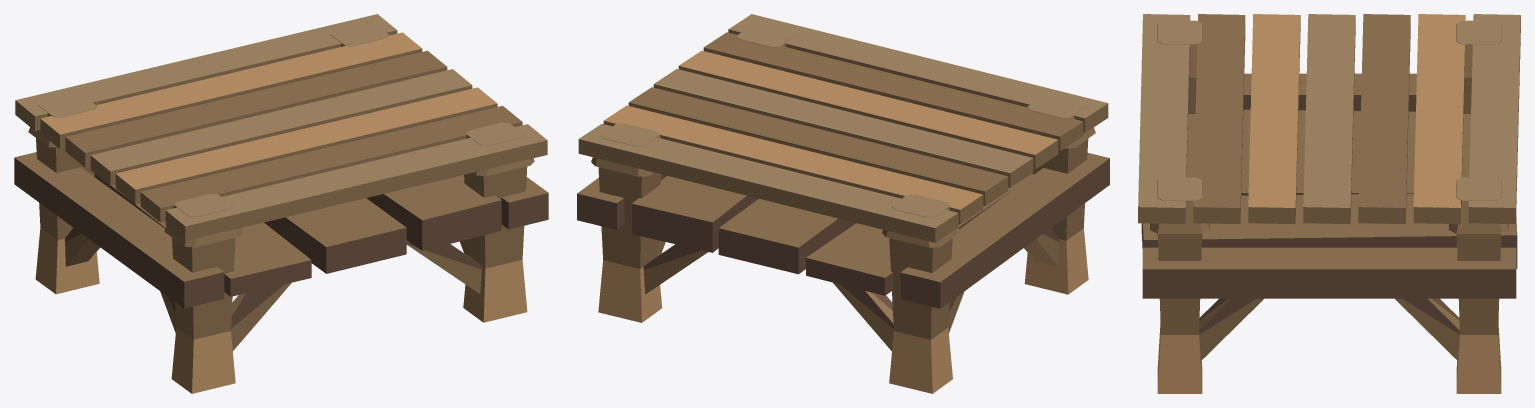
Rendered from TableroKenney.fbx.
3 renders of one model, left to right at view 1: azimuth 30°, elevation 25°; view 2: azimuth 150°, elevation 25°; view 3: azimuth 270°, elevation 25°, orthographic. The views are drawn at different scales.
Visible parts, largest first — view 1: Surf_WeatheredMid, Surf_PierBoards, Surf_WeatheredWood, Surf_WeatheredDark; view 2: Surf_WeatheredMid, Surf_PierBoards, Surf_WeatheredWood, Surf_WeatheredDark; view 3: Surf_WeatheredMid, Surf_PierBoards, Surf_WeatheredWood, Surf_WeatheredDark.
Boxes of the visible parts, x1=… form: Surf_WeatheredMid: x1=14, y1=30, x2=548, y2=351; Surf_PierBoards: x1=15, y1=14, x2=547, y2=226; Surf_WeatheredWood: x1=35, y1=32, x2=527, y2=393; Surf_WeatheredDark: x1=14, y1=158, x2=548, y2=328; Surf_WeatheredMid: x1=577, y1=29, x2=1109, y2=350; Surf_PierBoards: x1=579, y1=14, x2=1107, y2=227; Surf_WeatheredWood: x1=598, y1=50, x2=1088, y2=393; Surf_WeatheredDark: x1=577, y1=158, x2=1109, y2=328; Surf_WeatheredMid: x1=1138, y1=14, x2=1520, y2=360; Surf_PierBoards: x1=1138, y1=14, x2=1520, y2=207; Surf_WeatheredWood: x1=1157, y1=14, x2=1501, y2=393; Surf_WeatheredDark: x1=1141, y1=95, x2=1517, y2=334.
Bounding box in the file's own units: 3.9 × 1.8 × 3.23.
